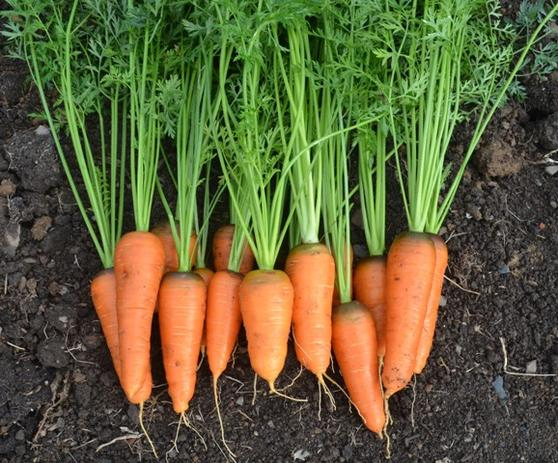carrot: (375, 228, 438, 398), (112, 234, 165, 397), (235, 261, 295, 398), (290, 234, 339, 382), (157, 269, 206, 413)
